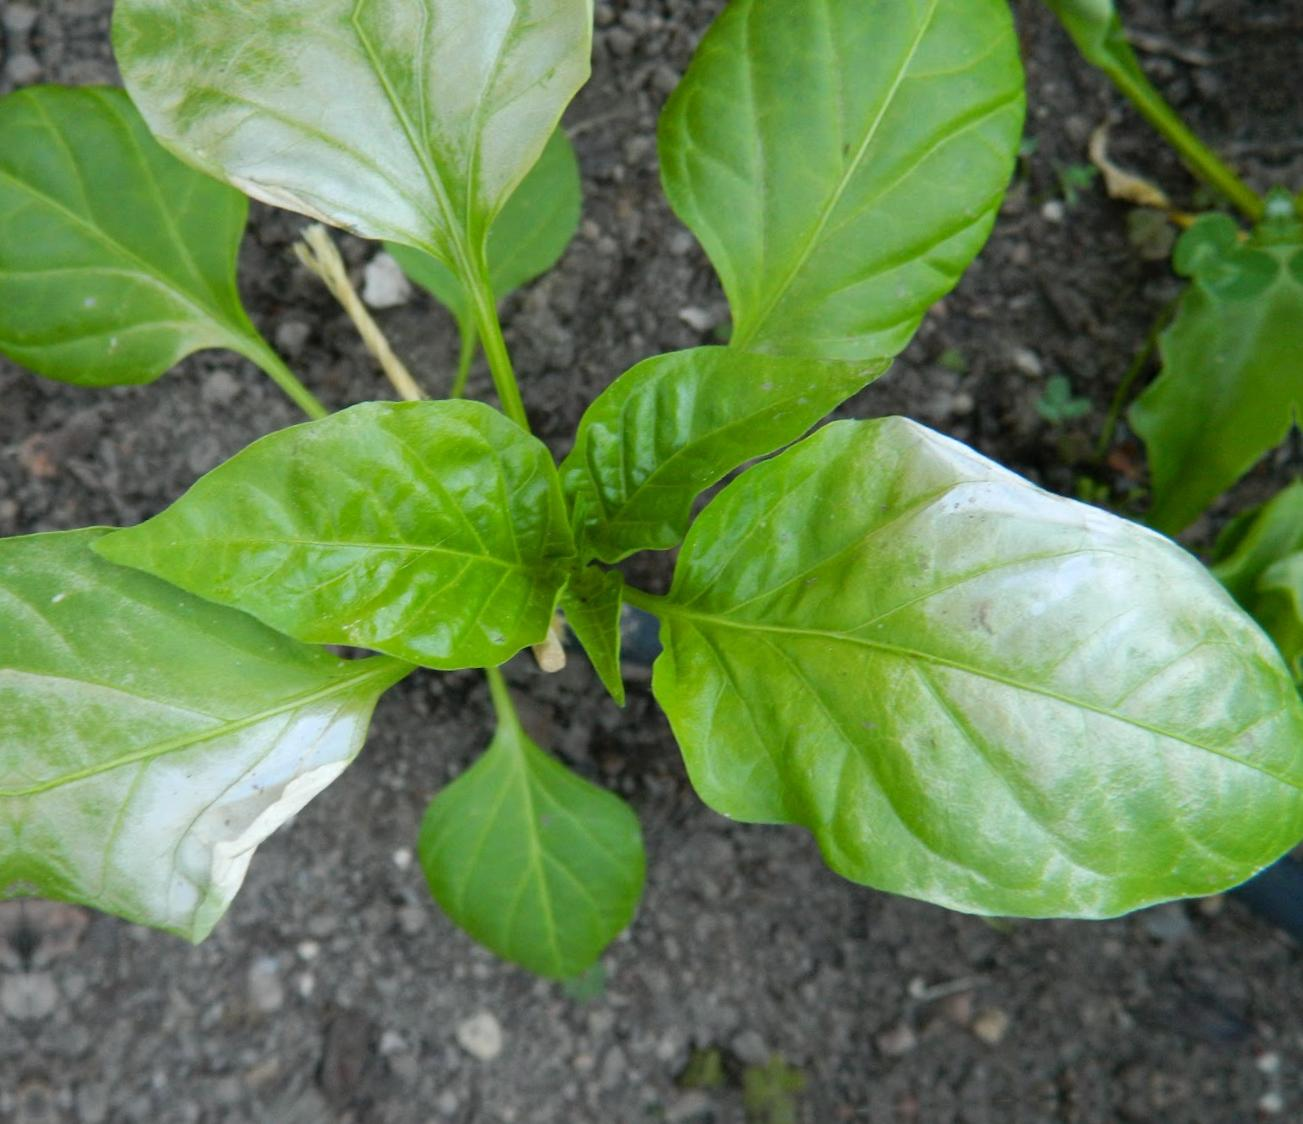Tomato leaf: (554, 0, 1089, 532), (101, 381, 573, 687)
